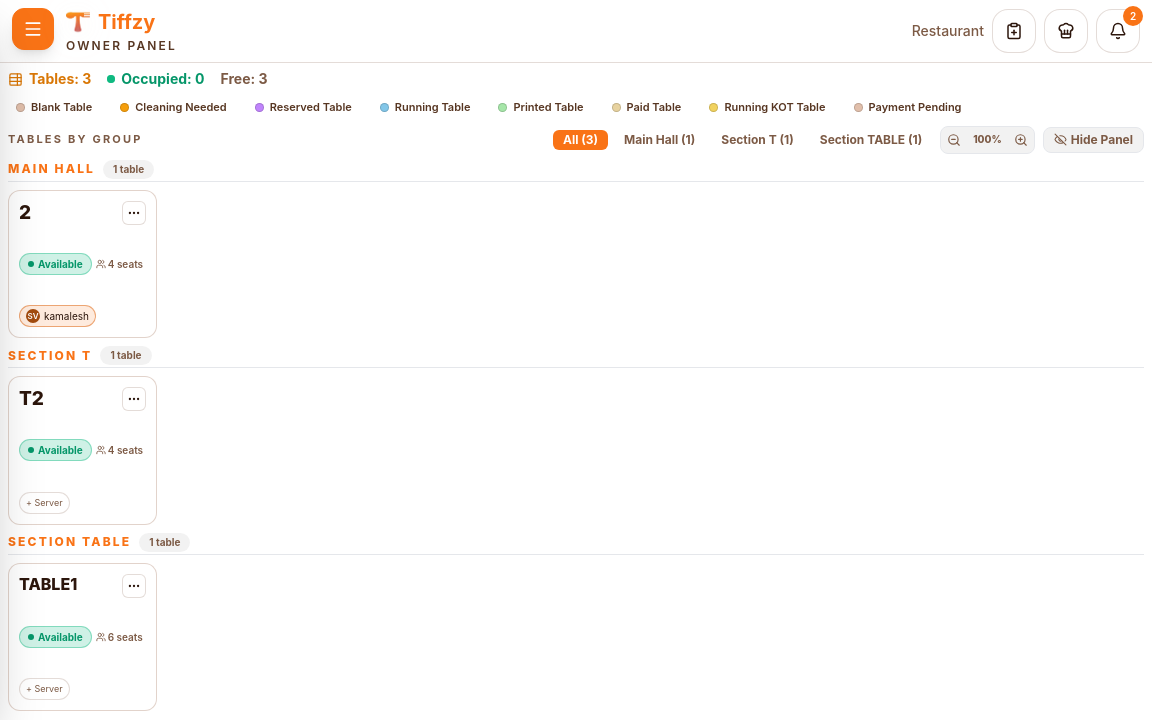
Test case: Tiffzy Owner Panel — COMPLETE QA AUDIT TEST SUITE › CRITICAL REGRESSION TEST: Table 2 vs Table T2 Collision Independence › TC-REG-03: Assign Server B (Priya Patel) to T2 -> Table 2 remains Server A (kamalesh)
This screenshot has width=1152, height=720.
Expected: the button titled "Assigned: kamalesh - Server" is shown, top-left (19, 305), bottom-right (96, 327)
# Open staff selector for T2
Click the button titled "Assign server for Table T2" below "T2" at (44, 503), box top-left (19, 492), bottom-right (70, 514)
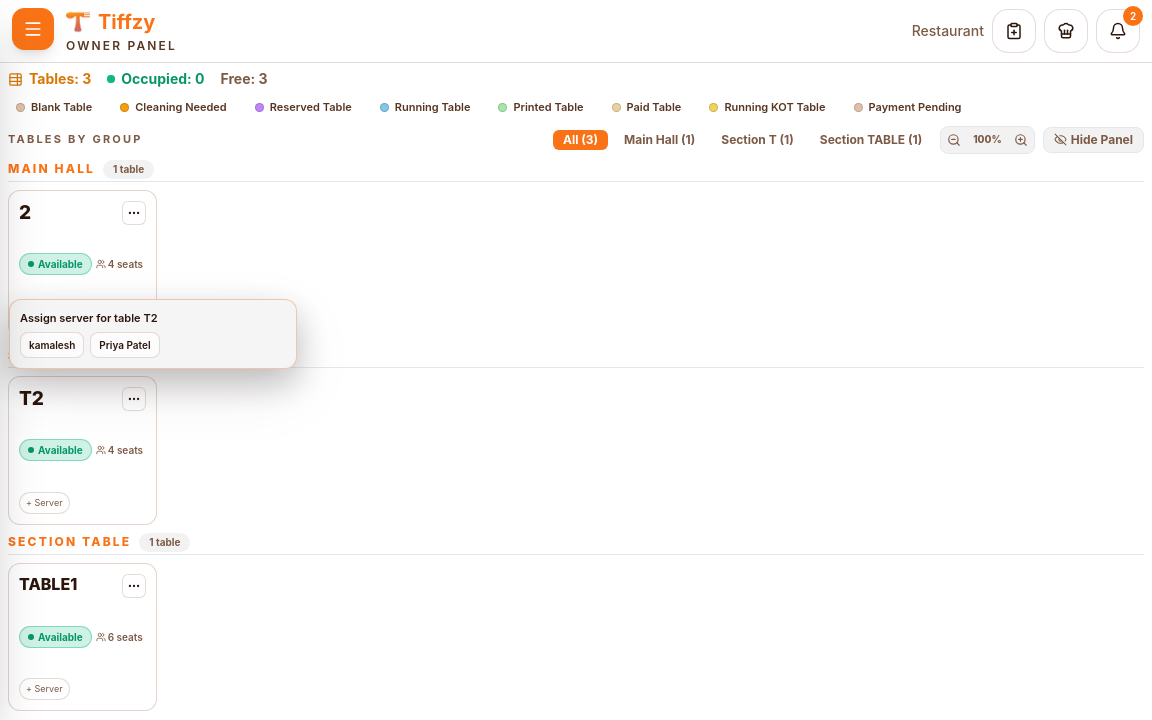
Expected: the text "Assign server for table T2" is shown, top-left (20, 311), bottom-right (158, 325)
# Click Priya Patel
Click the button "Priya Patel" at (125, 345), box top-left (90, 332), bottom-right (160, 358)
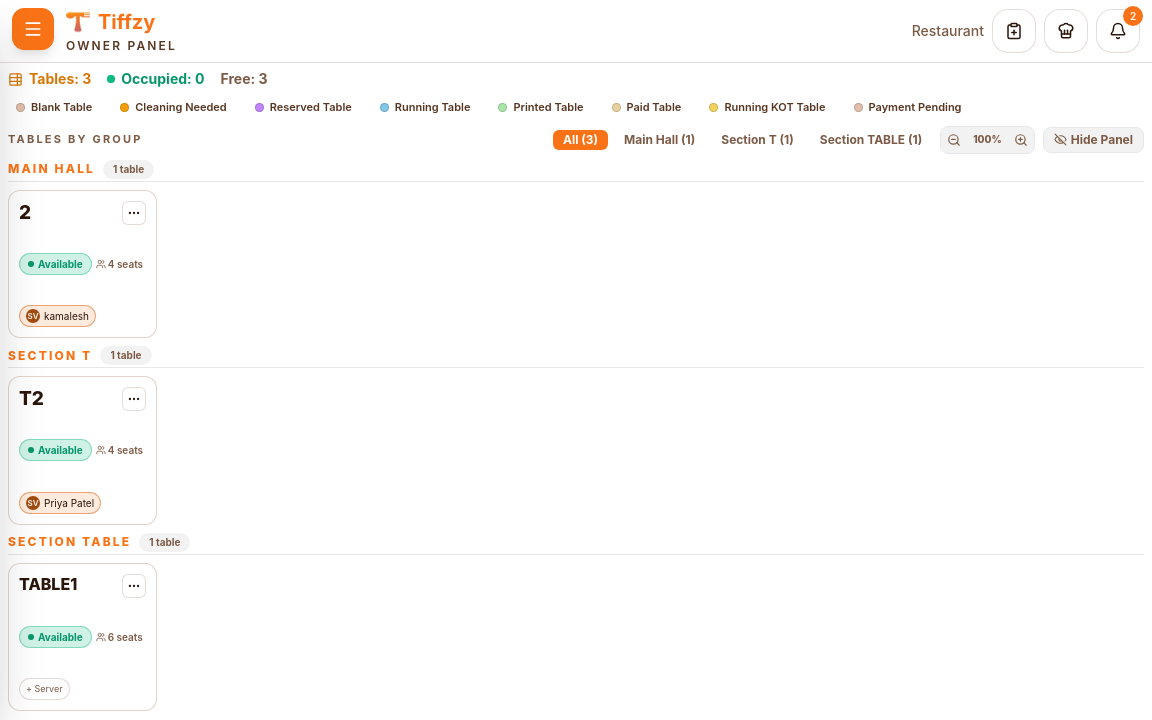
Expected: the button titled "Assigned: kamalesh - Server" is shown, top-left (19, 305), bottom-right (96, 327)
Expected: the button titled "Assigned: Priya Patel - Server" is shown, top-left (19, 492), bottom-right (101, 514)
